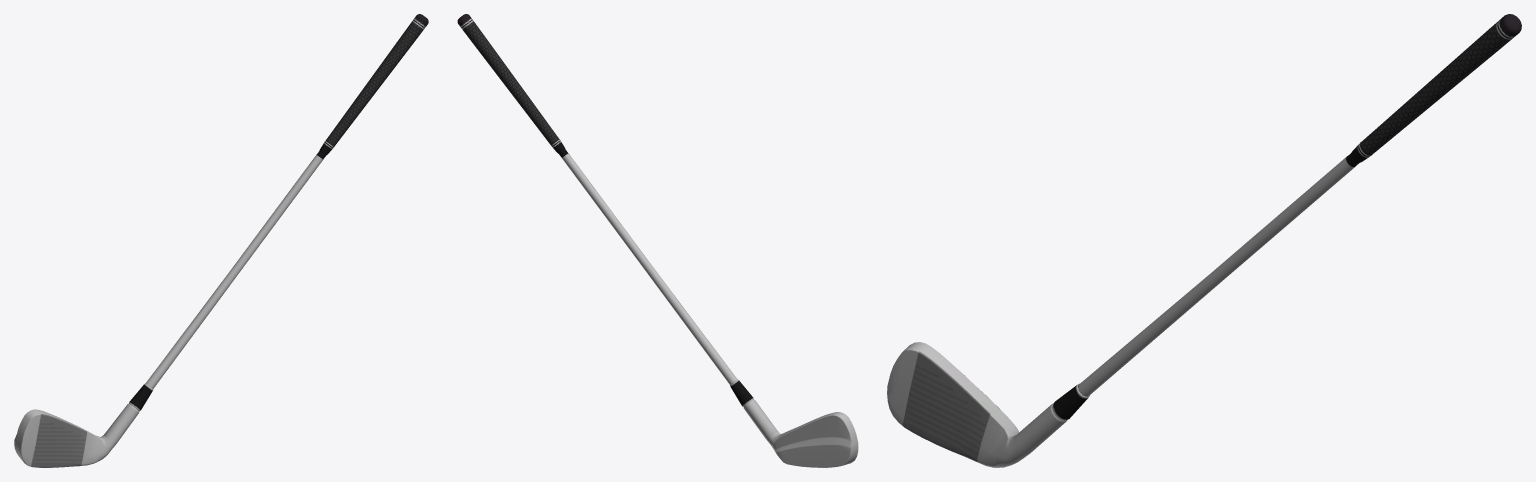
File: GolfStick.fbx
3 renders of one model, left to right at view 1: azimuth 30°, elevation 25°; view 2: azimuth 150°, elevation 25°; view 3: azimuth 330°, elevation 25°, orthographic. The views are drawn at different scales.
Parts seen in each view (by area): view 1: node_id38; view 2: node_id38; view 3: node_id38.
Part boxes in pixels (x1,y1,x2,y2): node_id38: (14,14,428,467); node_id38: (457,14,858,467); node_id38: (887,14,1521,467).
Size of the model in its own units: 32.91 by 28.64 by 1.73.
Materials: 1 (1 with a texture image).
